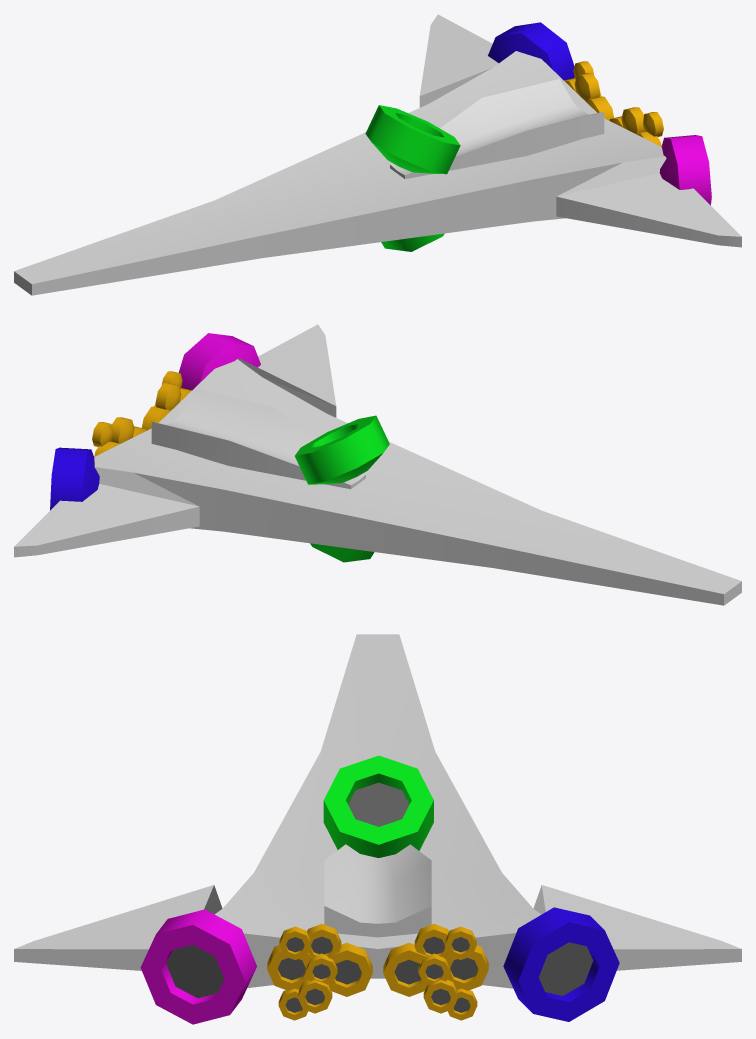
The model's file is 5GD_ST1_Ship.fbx.
3 renders of one model, top to bottom at view 1: azimuth 30°, elevation 25°; view 2: azimuth 150°, elevation 25°; view 3: azimuth 270°, elevation 25°, orthographic. The views are drawn at different scales.
Parts seen in each view (by area): view 1: Ship_00-Base, Ship_01-Thruster-UPaDOWN, Ship_04-Thruster-RIGHT, Ship_02-Thruster-LEFT, Ship_03-Thruster-BOOST; view 2: Ship_00-Base, Ship_01-Thruster-UPaDOWN, Ship_02-Thruster-LEFT, Ship_03-Thruster-BOOST, Ship_04-Thruster-RIGHT; view 3: Ship_00-Base, Ship_03-Thruster-BOOST, Ship_02-Thruster-LEFT, Ship_04-Thruster-RIGHT, Ship_01-Thruster-UPaDOWN.
Part boxes in pixels (x1=…): Ship_00-Base: x1=14, y1=14, x2=741, y2=295; Ship_01-Thruster-UPaDOWN: x1=365, y1=105, x2=460, y2=251; Ship_04-Thruster-RIGHT: x1=488, y1=22, x2=574, y2=80; Ship_02-Thruster-LEFT: x1=659, y1=135, x2=711, y2=205; Ship_03-Thruster-BOOST: x1=564, y1=61, x2=663, y2=146; Ship_00-Base: x1=14, y1=324, x2=741, y2=605; Ship_01-Thruster-UPaDOWN: x1=295, y1=415, x2=389, y2=562; Ship_02-Thruster-LEFT: x1=178, y1=333, x2=260, y2=390; Ship_03-Thruster-BOOST: x1=92, y1=371, x2=191, y2=456; Ship_04-Thruster-RIGHT: x1=50, y1=447, x2=99, y2=510; Ship_00-Base: x1=14, y1=634, x2=741, y2=988; Ship_03-Thruster-BOOST: x1=267, y1=924, x2=488, y2=1020; Ship_02-Thruster-LEFT: x1=140, y1=909, x2=256, y2=1024; Ship_04-Thruster-RIGHT: x1=503, y1=907, x2=619, y2=1021; Ship_01-Thruster-UPaDOWN: x1=323, y1=755, x2=433, y2=857.
Size of the model in its own units: 1050 by 221 by 900.
